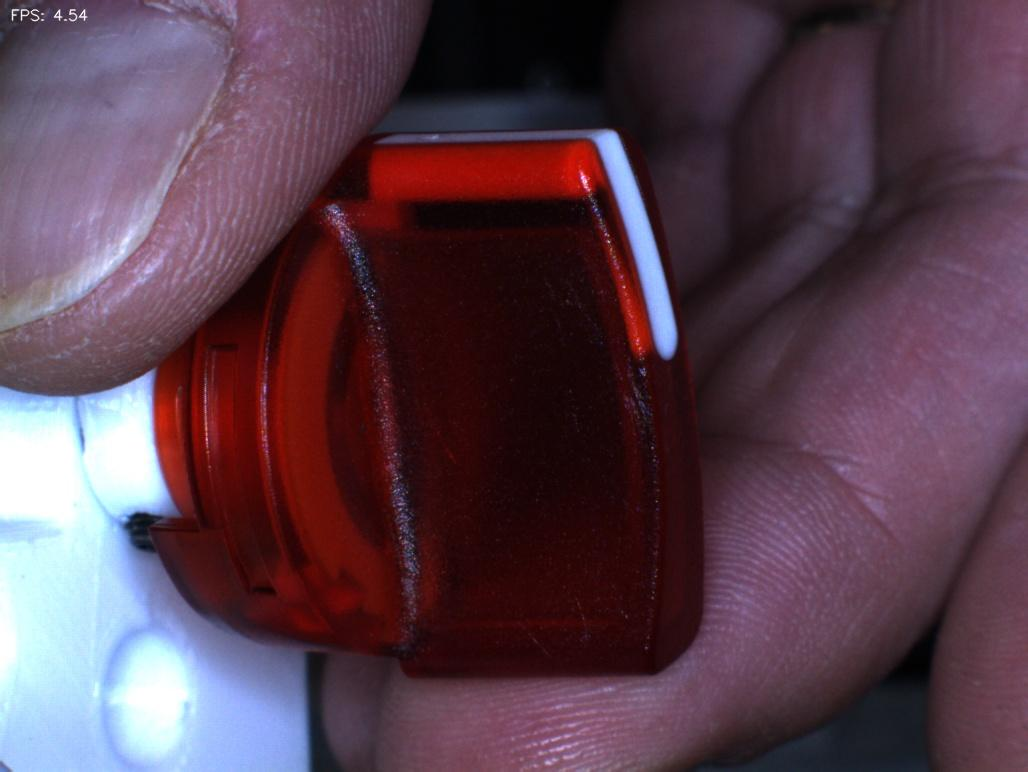Givrage: (539, 265, 645, 448)
